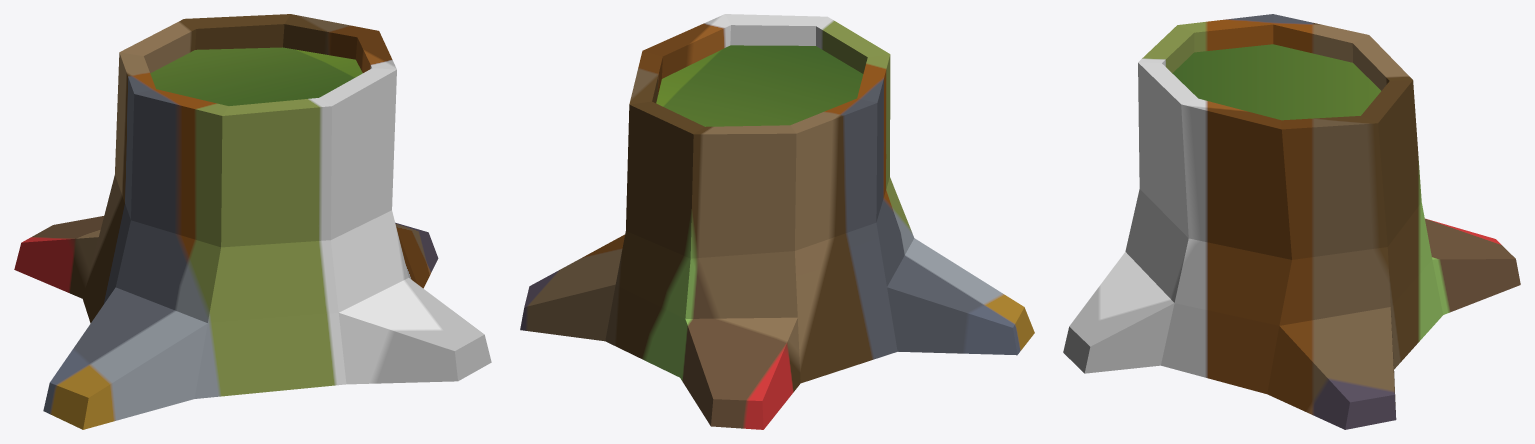
Rendered from Stump_03.fbx.
3 renders of one model, left to right at view 1: azimuth 30°, elevation 25°; view 2: azimuth 150°, elevation 25°; view 3: azimuth 270°, elevation 25°, orthographic. The views are drawn at different scales.
Parts seen in each view (by area): view 1: Stump_03; view 2: Stump_03; view 3: Stump_03.
Part boxes in pixels (x1,y1,x2,y2): Stump_03: [14, 14, 491, 429]; Stump_03: [520, 14, 1034, 429]; Stump_03: [1063, 14, 1520, 429].
Size of the model in its own units: 1.95 by 1.15 by 1.77.
